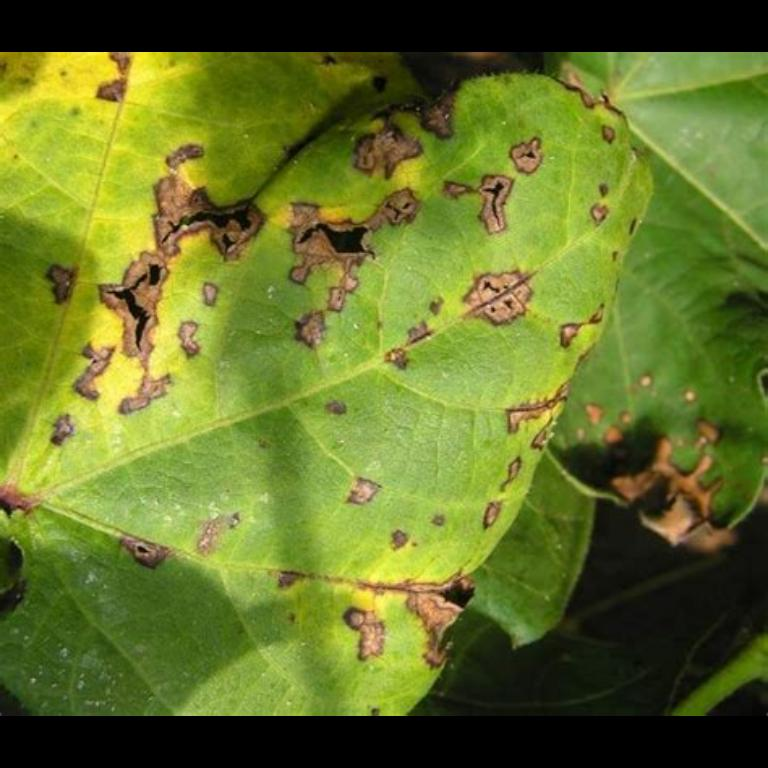blight: (80, 112, 522, 408), (270, 506, 484, 684), (604, 379, 740, 551)
